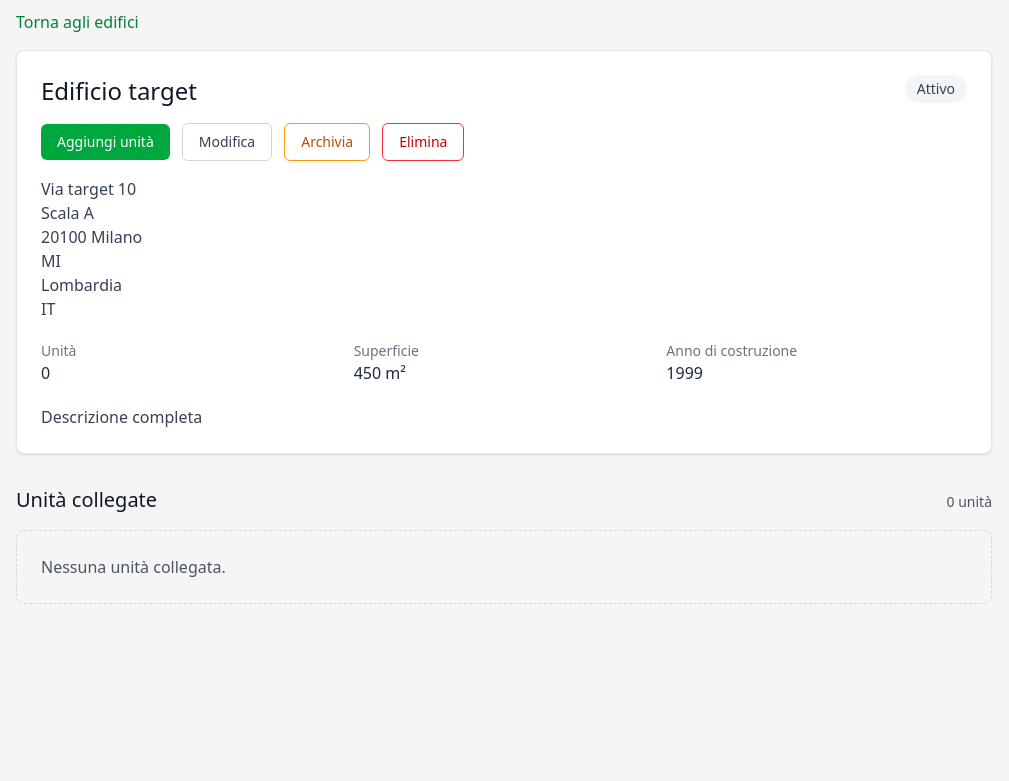
Test: A6.3 Building edit › apre il form edit con tutti i 18 campi precompilati e tab Unità informativo
Click the button "Modifica".
click(227, 142)  # box [182,123,272,161]
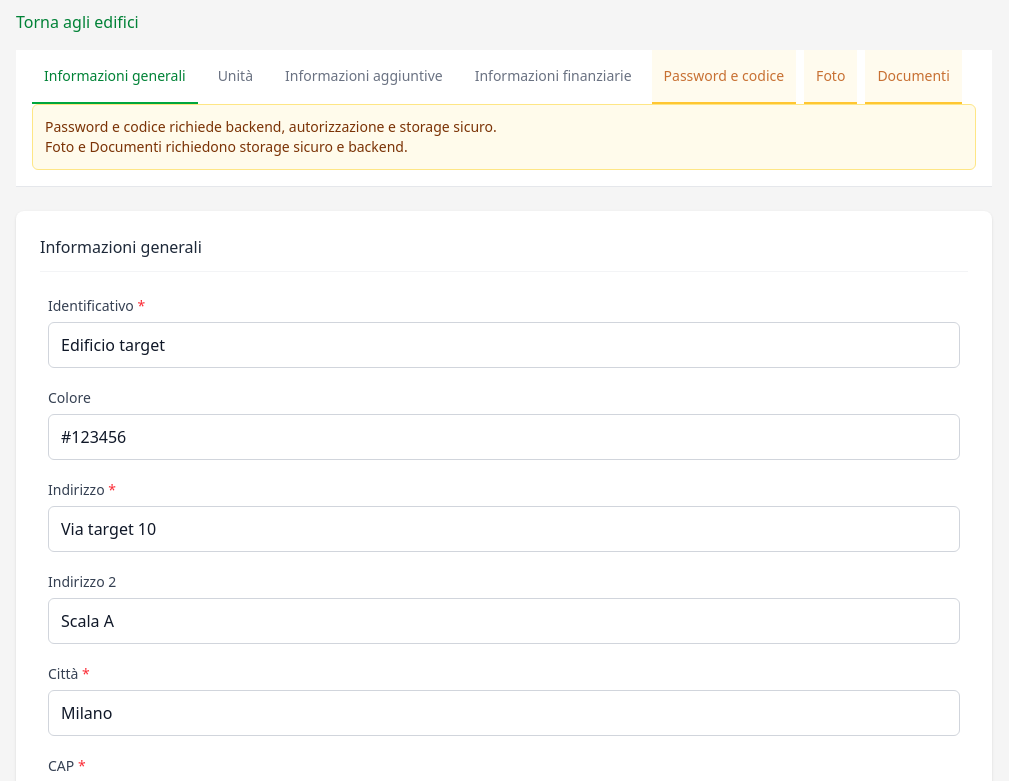
Expected: the field with id "color" holds "#123456", [48,414,960,460]
Expected: the field with id "address2" holds "Scala A", [48,598,960,644]
Expected: the field with id "city" holds "Milano", [48,690,960,736]
Click the tab "Informazioni aggiuntive".
click(364, 77)  # box [273,50,455,104]
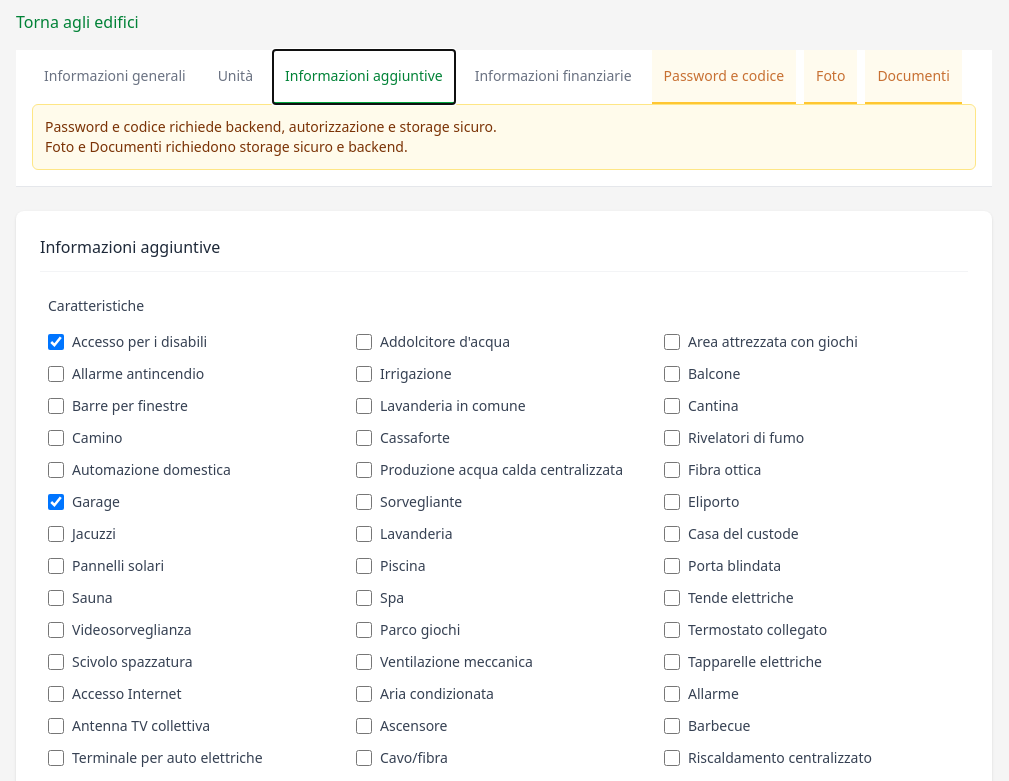
Expected: the checkbox labelled "Accesso per i disabili" is checked, [48,334,64,350]
Expected: the checkbox labelled "Garage" is checked, [48,494,64,510]
Click the tab "Informazioni finanziarie".
click(553, 77)  # box [463,50,644,104]
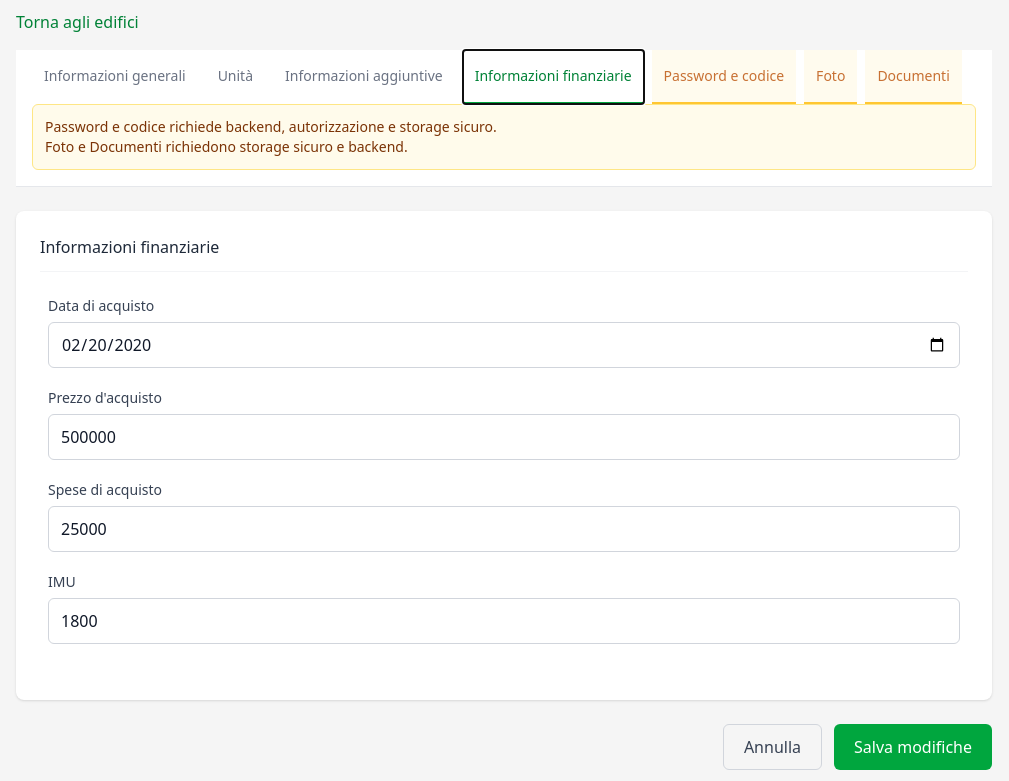
Expected: the date field with id "acquisitionDate" holds "2020-02-20", [48,322,960,368]
Expected: the number field labelled "Prezzo d'acquisto" holds "500000", [48,414,960,460]
Expected: the number field with id "acquisitionCosts" holds "25000", [48,506,960,552]
Click the tab "Unità".
click(235, 77)  # box [206,50,265,104]
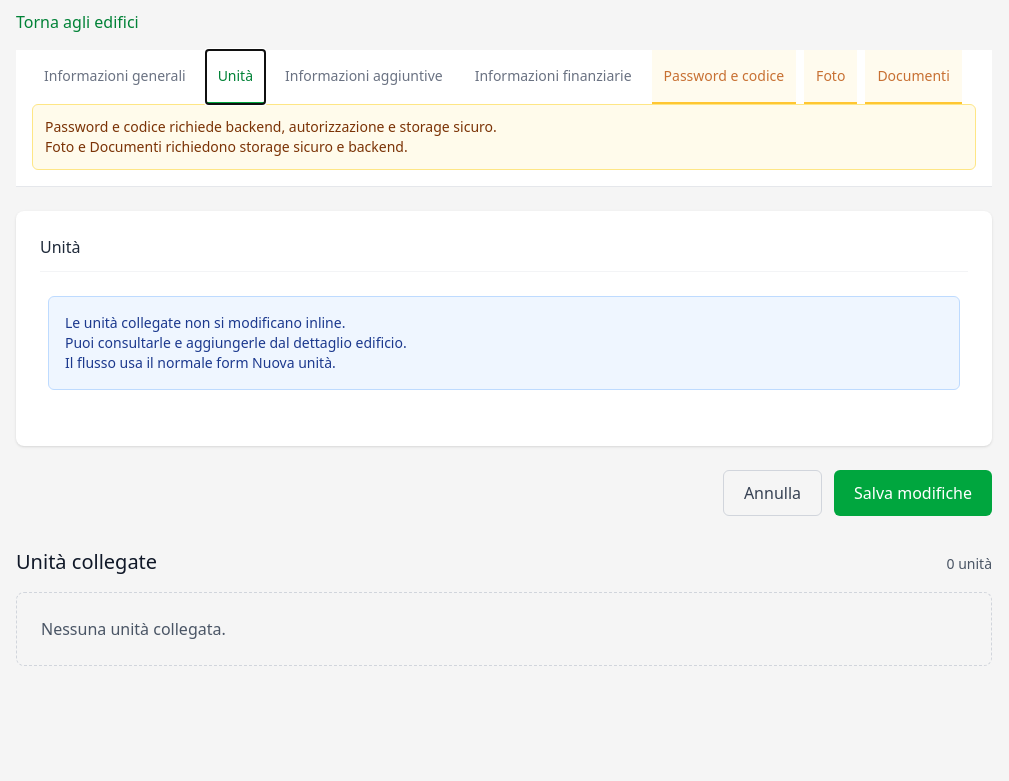
Expected: the link "Aggiungi unità" is not shown
Expected: the text "Le unità collegate non si modificano inline." is shown, [65,313,345,332]
